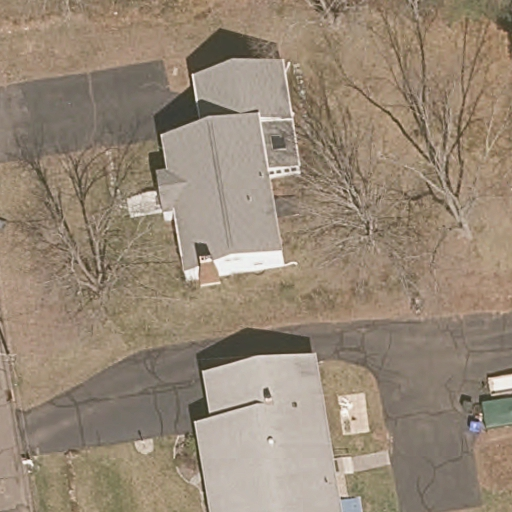DT: (1, 347, 21, 390)
